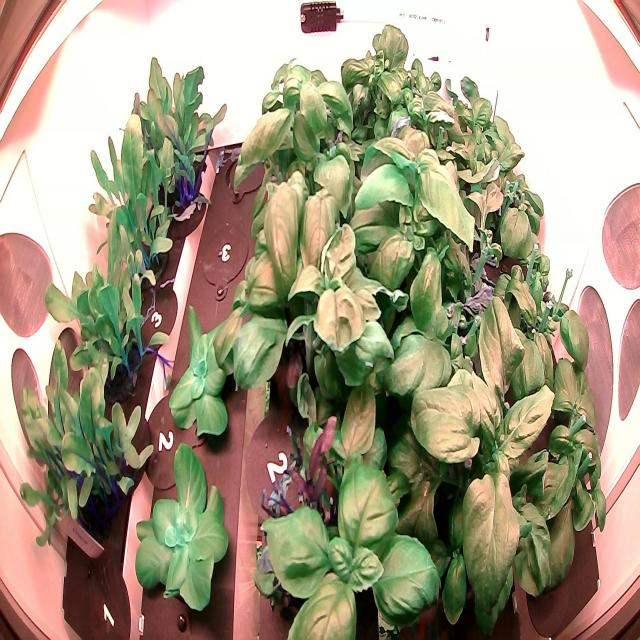empty_pod: (196, 214, 252, 308), (219, 129, 273, 205)
young: (128, 435, 233, 618), (163, 302, 251, 452)
